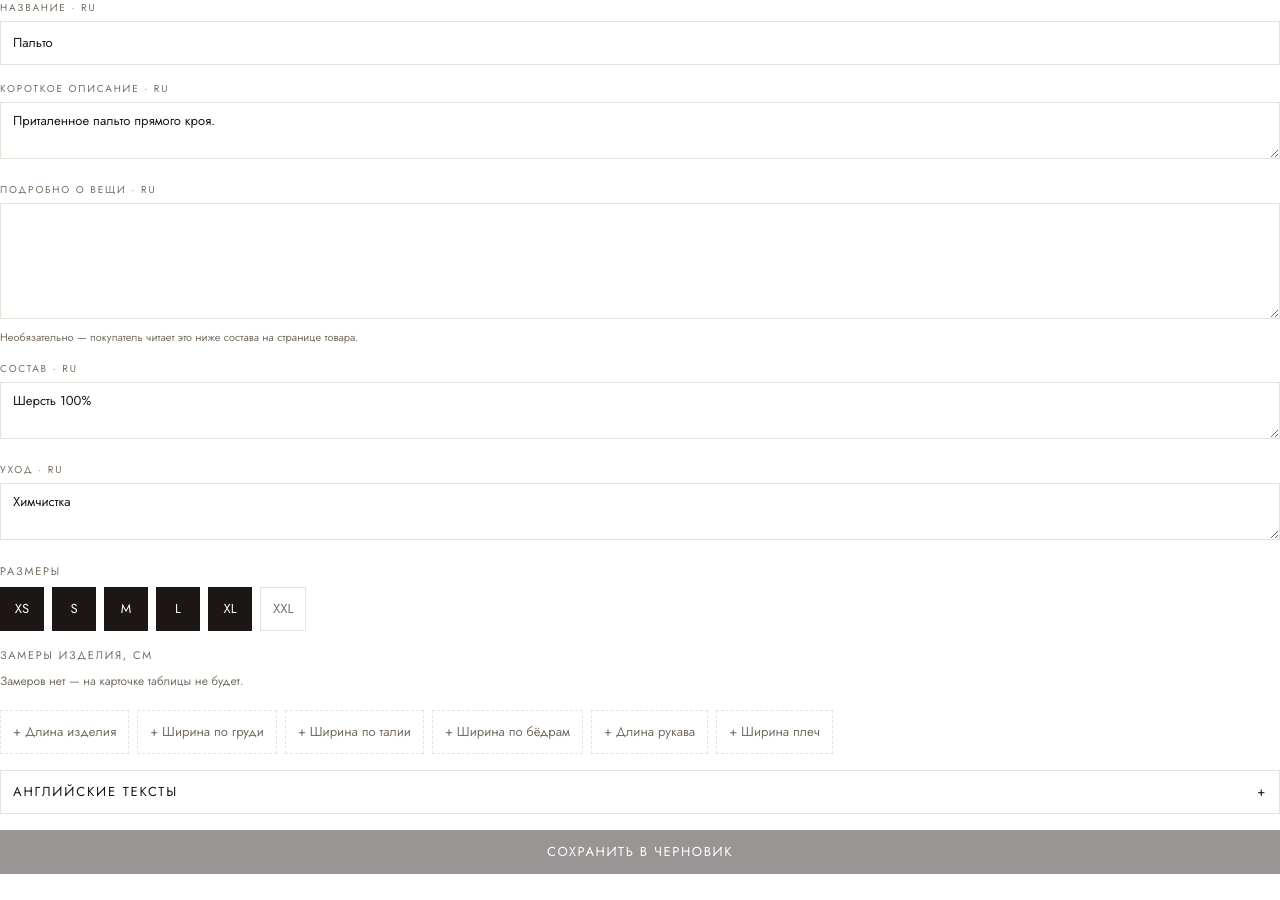
Test: ModelForm — размеры › снять все размеры нельзя: предупреждение и кнопка сохранения закрыта
Expected: the field labelled "Название · ru" is shown, 0,21 -> 1279,65
Click the button "XS".
click(22, 609)  # box 0,587 -> 44,631
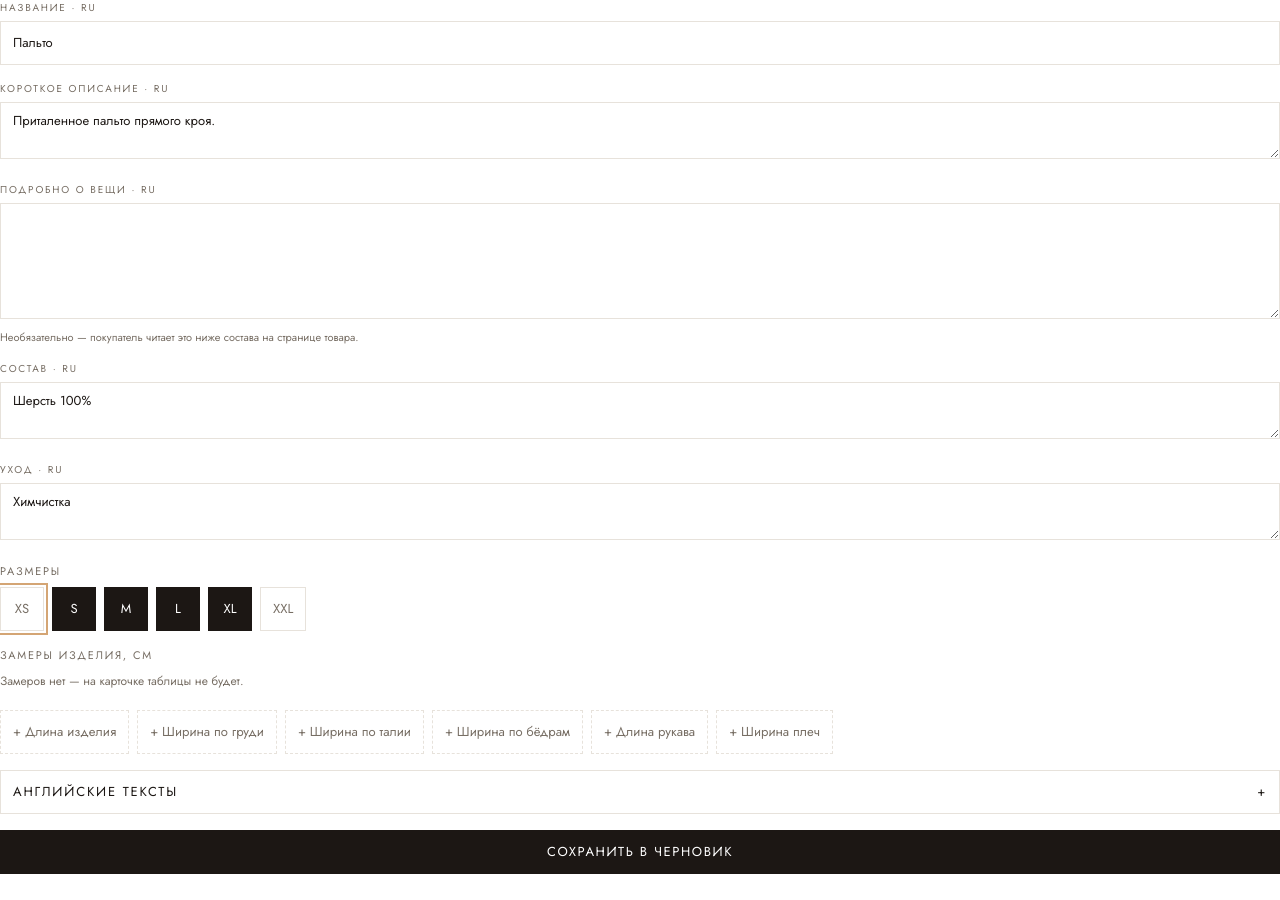
Click the button "S".
click(74, 609)  # box 52,587 -> 96,631
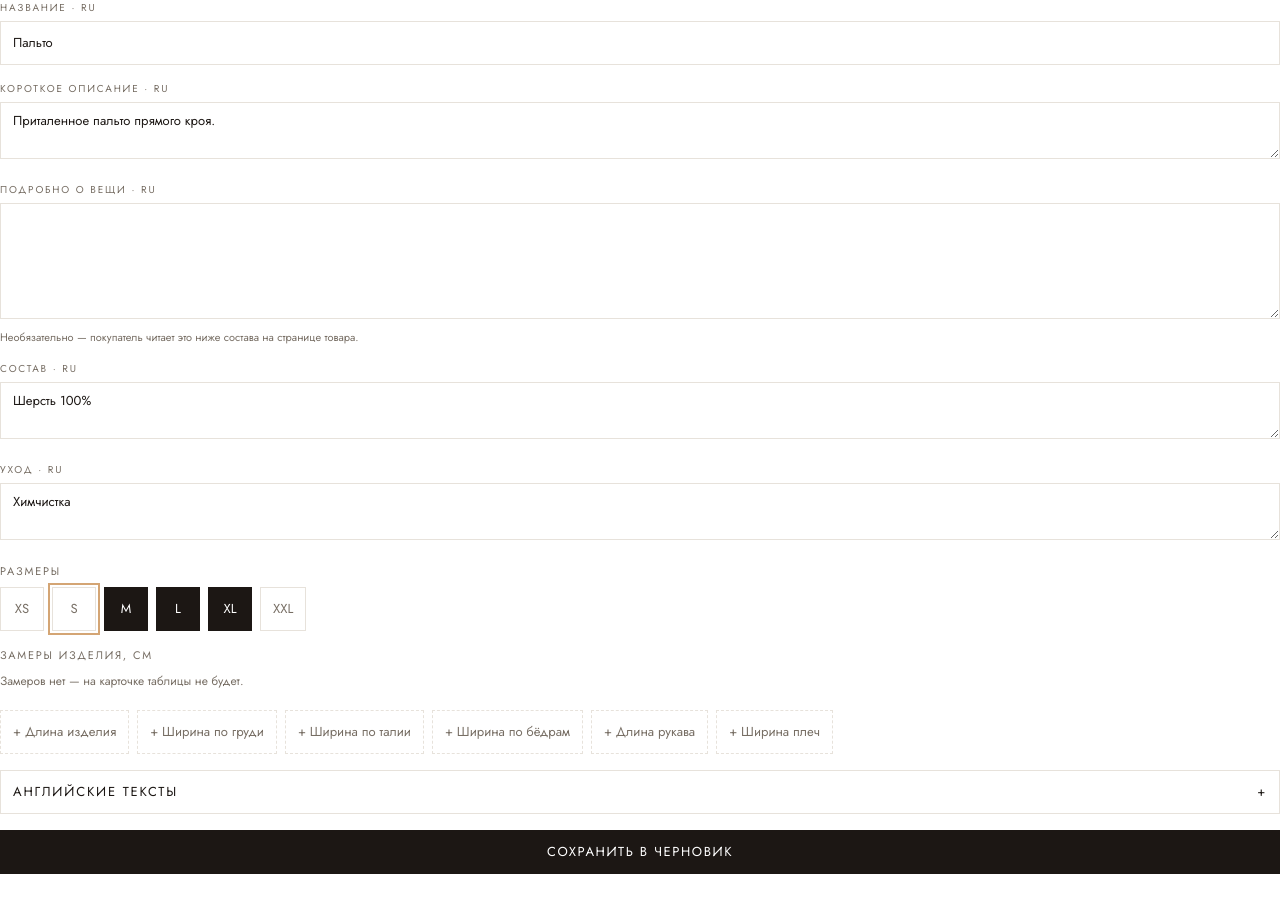
Click the button "M".
click(126, 609)  # box 104,587 -> 148,631
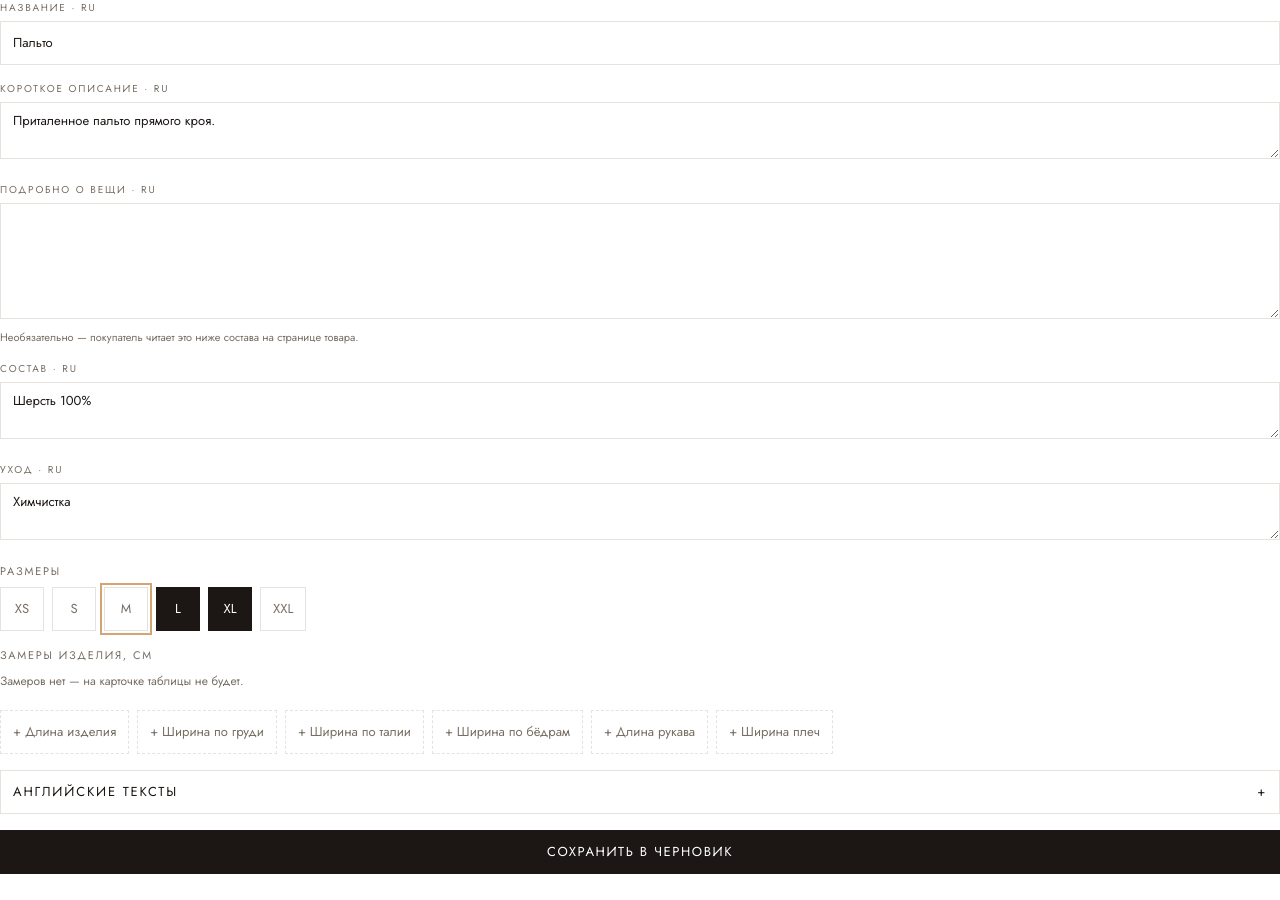
Click the button "L".
click(178, 609)  # box 156,587 -> 200,631
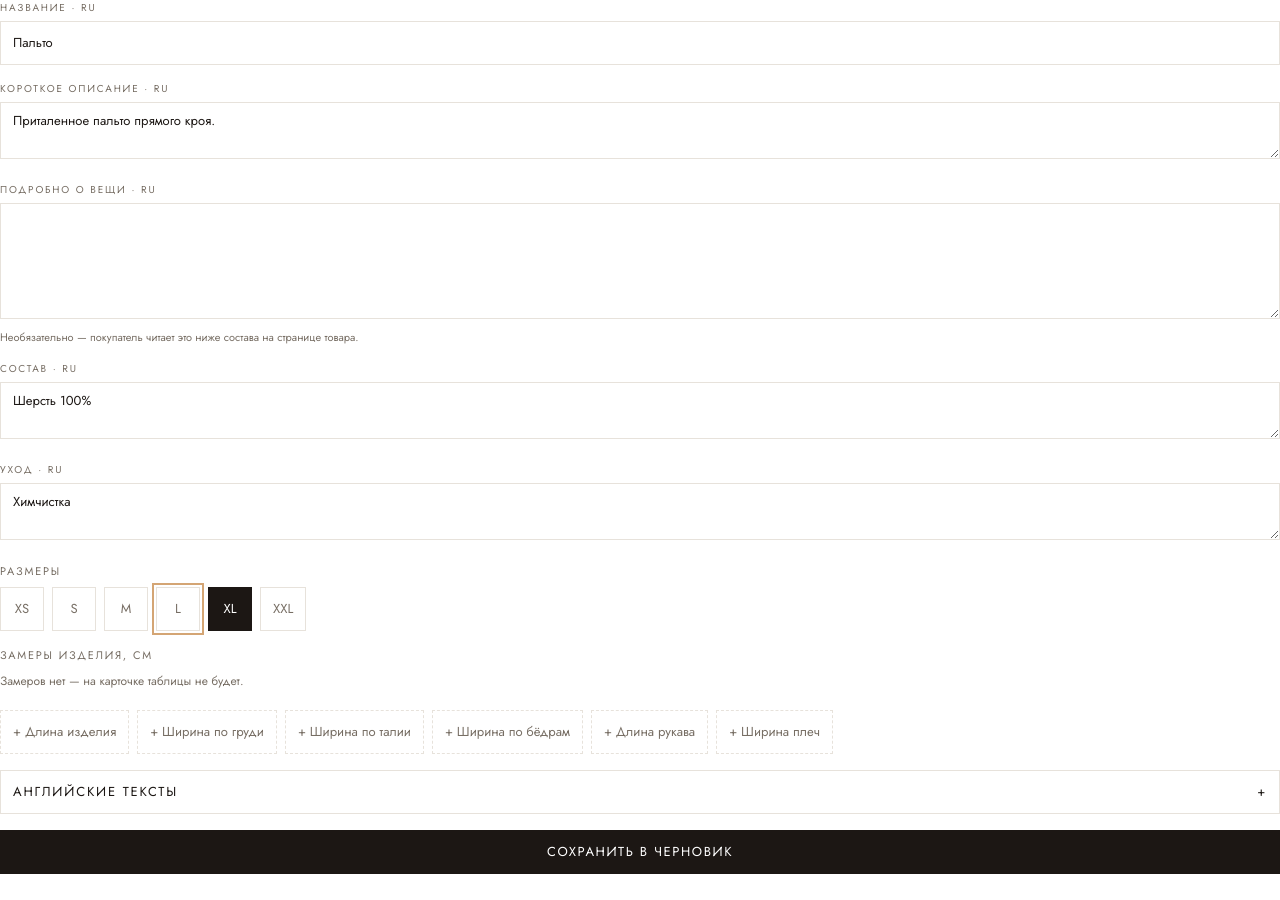
Click the button "XL".
click(230, 609)  # box 208,587 -> 252,631
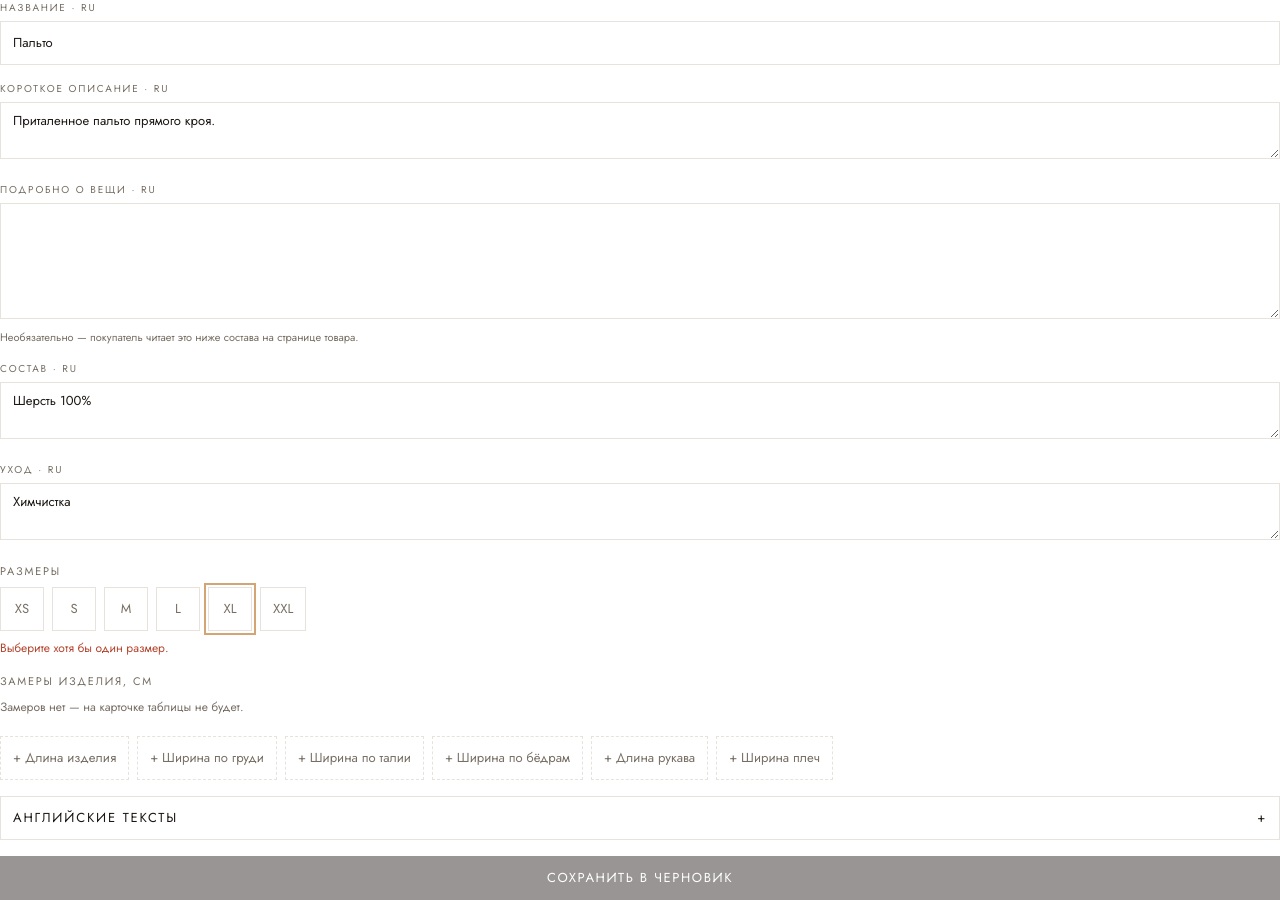
Now the message reads "Выберите хотя бы один размер.", box 0,639 -> 168,657
Now the button "Сохранить в черновик" is disabled, box 0,856 -> 1279,899
